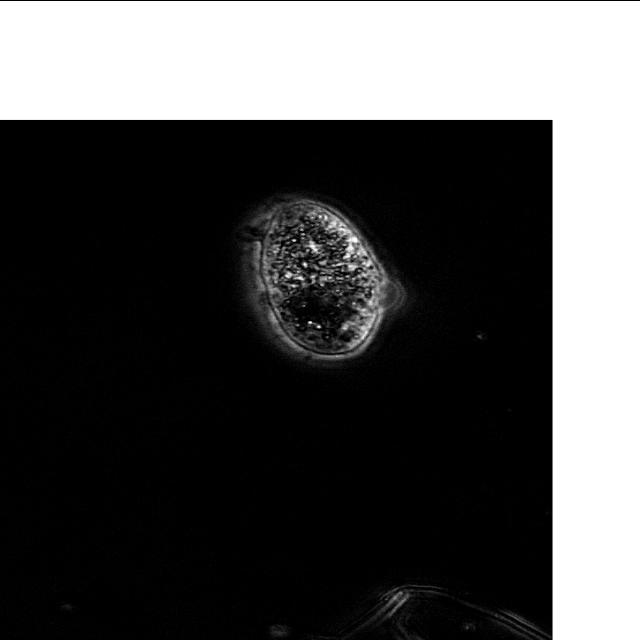Cell: (236, 189, 404, 371)
